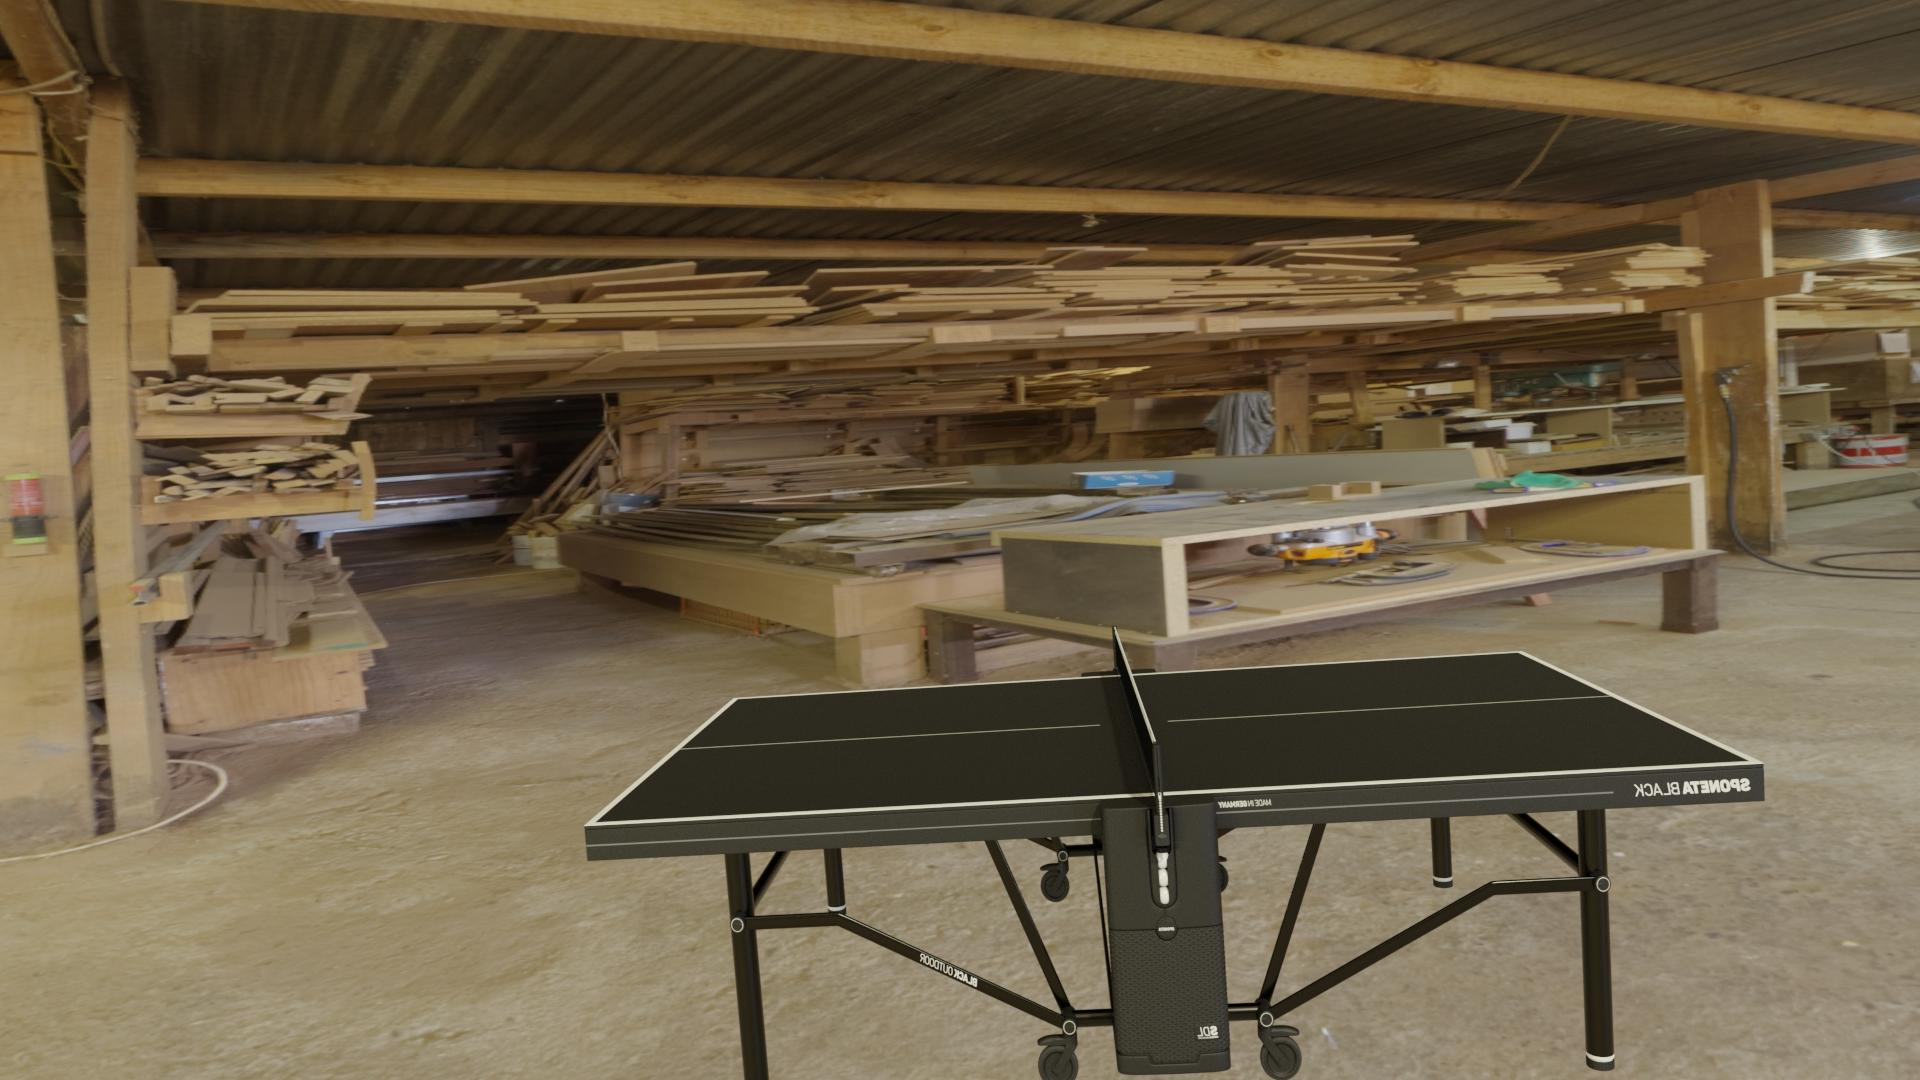table: (595, 653, 1750, 823)
